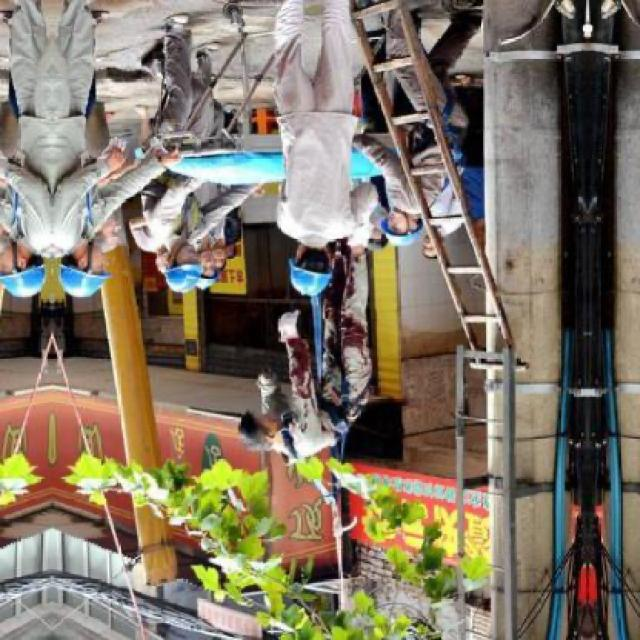con casco: (253, 228, 356, 308), (57, 230, 124, 303), (148, 244, 222, 297), (0, 227, 38, 319)
sin casco: (216, 401, 300, 489)
